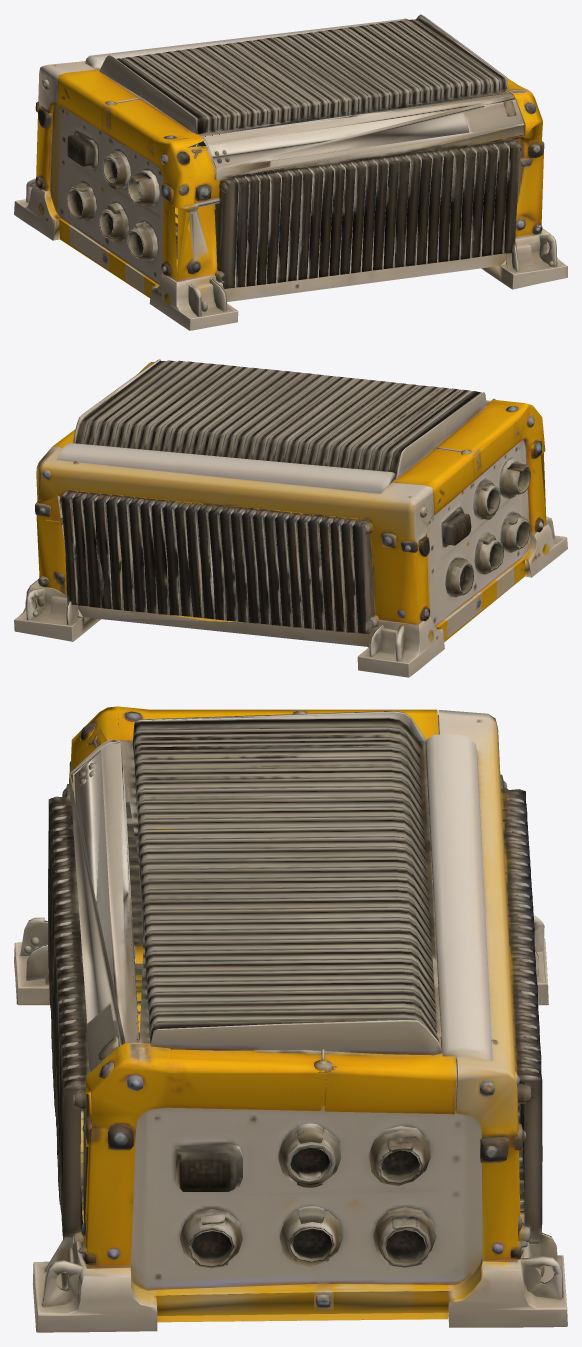
File: sat3_9.fbx
3 views of the same model, one above another, from view 1: azimuth 30°, elevation 25°; view 2: azimuth 150°, elevation 25°; view 3: azimuth 270°, elevation 25° (orthographic). The views are drawn at different scales.
Visible parts, largest first — view 1: tripo_node_c737242e; view 2: tripo_node_c737242e; view 3: tripo_node_c737242e.
Boxes of the visible parts, x1,y1,x2,y2 form: tripo_node_c737242e: (14, 14, 567, 330); tripo_node_c737242e: (14, 359, 567, 677); tripo_node_c737242e: (14, 706, 567, 1332).
Bounding box in the file's own units: 0.9995 × 0.5405 × 0.7622.
